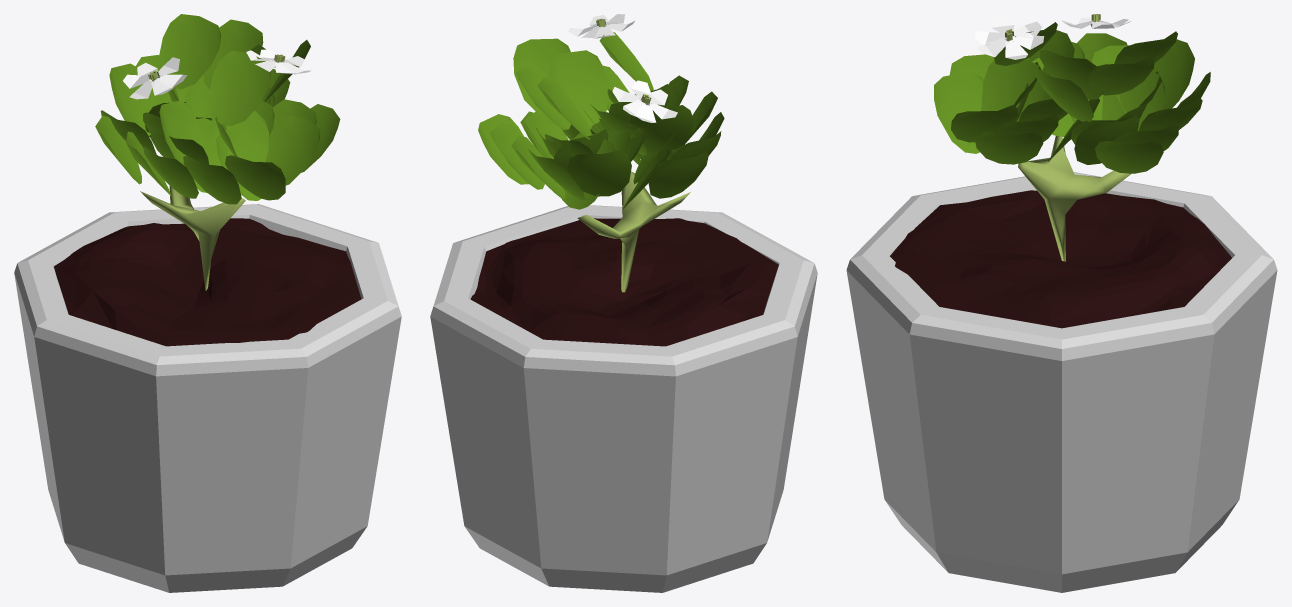
The model's file is brahmi.glb.
The picture shows the model from 3 angles, left to right: view 1: azimuth 30°, elevation 25°; view 2: azimuth 150°, elevation 25°; view 3: azimuth 270°, elevation 25°; orthographic projection. The views are drawn at different scales.
Visible parts, largest first — view 1: brahmi; view 2: brahmi; view 3: brahmi.
Boxes of the visible parts, x1,y1,x2,y2 form: brahmi: [14, 14, 401, 592]; brahmi: [430, 14, 817, 592]; brahmi: [846, 14, 1277, 592].
Bounding box in the file's own units: 1.39 × 1.89 × 1.39.
